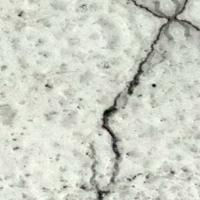crack: (76, 1, 199, 199)
